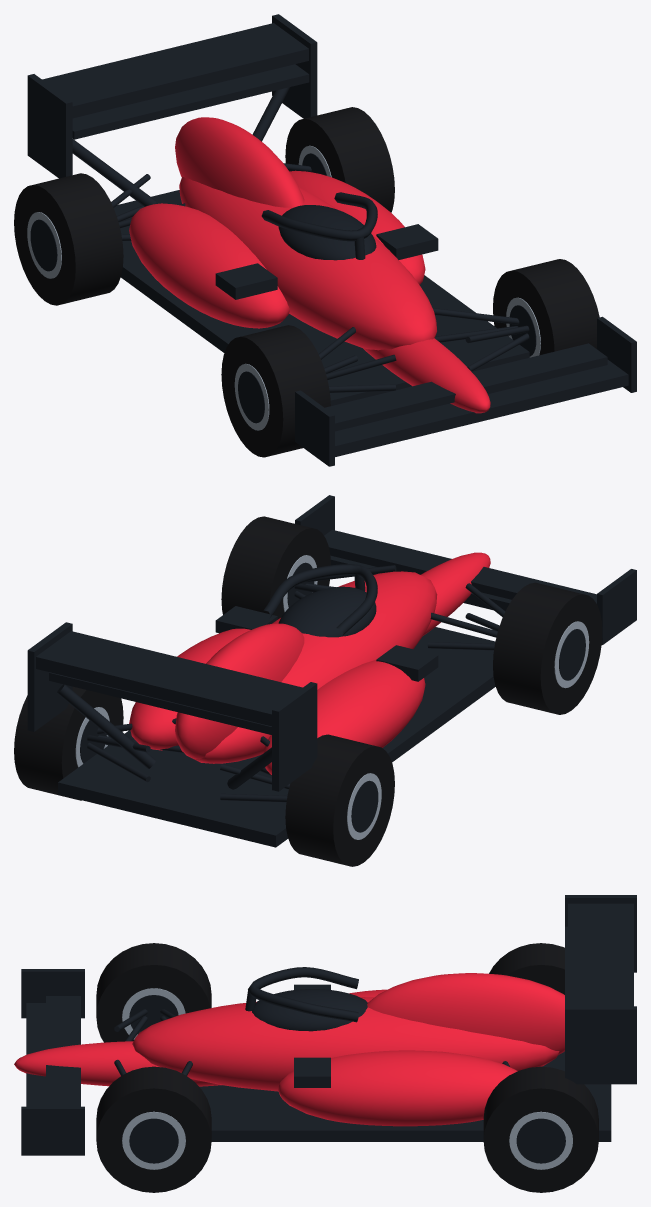
3 renders of one model, top to bottom at view 1: azimuth 30°, elevation 25°; view 2: azimuth 150°, elevation 25°; view 3: azimuth 270°, elevation 25°, orthographic. The views are drawn at different scales.
Visible parts, largest first — view 1: GL_Car_Body, GL_Car_Wheel_RL, object 13, object 4, GL_Car_Wheel_FL, GL_Car_Wheel_FR, object 5, GL_Car_Wheel_RR, object 6, object 14, object 8, object 3 (+9 smaller); view 2: GL_Car_Body, object 4, GL_Car_Wheel_FL, GL_Car_Wheel_RL, object 13, GL_Car_Wheel_FR, GL_Car_Wheel_RR, object 6, object 8, object 3, object 11, object 15 (+8 smaller); view 3: GL_Car_Body, GL_Car_Wheel_FR, GL_Car_Wheel_RR, object 4, GL_Car_Wheel_FL, object 13, object 11, object 6, object 10, object 3, GL_Car_Wheel_RL, object 15 (+4 smaller).
Part boxes in pixels (x1,y1,x2,y2): GL_Car_Body: (129,117,490,413); GL_Car_Wheel_RL: (14,173,123,305); object 13: (42,23,308,118); object 4: (114,190,529,405); GL_Car_Wheel_FL: (221,325,330,457); GL_Car_Wheel_FR: (493,259,599,357); object 5: (335,360,628,456); GL_Car_Wheel_RR: (285,107,394,212); object 6: (325,343,607,431); object 14: (72,64,309,139); object 8: (27,74,72,178); object 3: (278,205,376,260); GL_Car_Body: (129,552,490,774); object 4: (58,627,495,847); GL_Car_Wheel_FL: (493,582,602,714); GL_Car_Wheel_RL: (285,734,394,866); object 13: (36,631,302,726); GL_Car_Wheel_FR: (221,516,330,619); GL_Car_Wheel_RR: (14,686,123,800); object 6: (324,529,596,603); object 8: (272,682,317,791); object 3: (278,586,376,637); object 11: (27,622,72,731); object 15: (263,564,377,635); GL_Car_Body: (14,973,564,1126); GL_Car_Wheel_FR: (96,1066,211,1192); GL_Car_Wheel_RR: (483,1066,598,1192); object 4: (137,1031,611,1141); GL_Car_Wheel_FL: (96,943,211,1042); object 13: (568,903,633,1006); object 11: (565,1006,636,1084); object 6: (46,996,80,1106); object 10: (21,1106,84,1155); object 3: (252,989,367,1031); GL_Car_Wheel_RL: (489,943,564,994); object 15: (248,967,358,1022).
Bounding box in the file's own units: 1.68 × 0.9 × 3.02.
